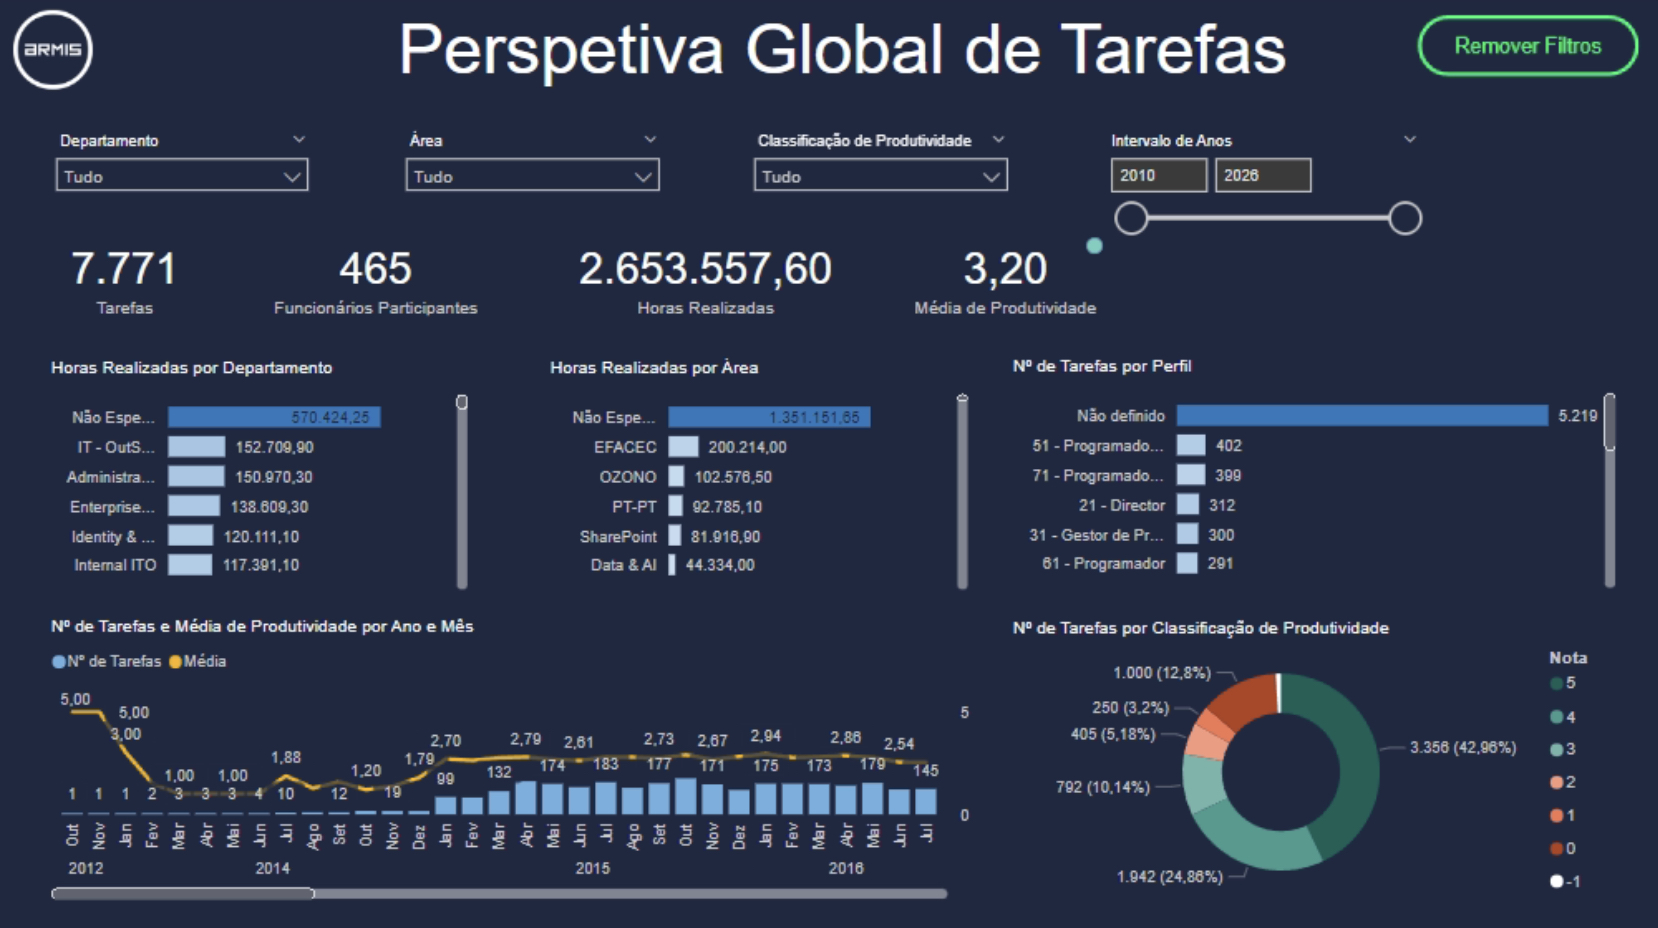

This screenshot's page, from the dashboard's own definition file:
{"tool":"powerbi","page":{"name":"Global de Tarefas","canvas":[1280,720],"ordinal":3},"visuals":[{"type":"image","box":[5.1,6.4,77.8,71.4],"z":0},{"type":"actionButton","box":[1093.9,15.3,169.6,47.2],"z":1000},{"type":"clusteredBarChart","title":"Horas Realizadas por Área","fields":{"Category":["Projeto.Area"],"Y":["Produtividade de Tarefas.Horas Realizadas (Tarefa)"]},"box":[422.6,278.6,331.4,183.1],"z":2000},{"type":"textbox","box":[288.7,6.5,726.5,71.6],"z":3000},{"type":"card","fields":{"Values":["Produtividade de Tarefas.Média das Classificações (Tarefa)"]},"box":[697.4,182.7,159.1,69.2],"z":4000},{"type":"card","fields":{"Values":["Produtividade de Tarefas.Nº de Tarefas exceto Inválida"]},"box":[37.4,182.7,125.9,69.2],"z":5000},{"type":"donutChart","title":"Nº de Tarefas por Classificação de Produtividade","fields":{"Category":["Classificação de Produtividade.Nota"],"Y":["Produtividade de Tarefas.Nº de Tarefas"]},"box":[777.7,478.8,473.3,221.4],"z":6000},{"type":"lineClusteredColumnComboChart","title":"Nº de Tarefas e Média de Produtividade por Ano e Mês","fields":{"Category":["Calendário.Ano","Calendário.Mes_Abrev"],"Y2":["Produtividade de Tarefas.Média das Classificações (Tarefa)"],"Y":["Produtividade de Tarefas.Nº de Tarefas exceto Inválida"]},"box":[37.9,478.3,715.9,221.7],"z":7000},{"type":"clusteredBarChart","title":"Horas Realizadas por Departamento","fields":{"Category":["Projeto.Departamento"],"Y":["Produtividade de Tarefas.Horas Realizadas (Tarefa)"]},"box":[37.6,278.6,329.9,183.1],"z":8000},{"type":"card","fields":{"Values":["Produtividade de Tarefas.Horas Realizadas (Tarefa)"]},"box":[422.1,182.7,249.1,69.2],"z":9000},{"type":"clusteredBarChart","title":"Nº de Tarefas por Perfil","fields":{"Category":["Perfil.Nome_Perfil"],"Y":["Produtividade de Tarefas.Nº de Tarefas"]},"box":[777.7,278.1,473.3,182.7],"z":10000},{"type":"slicer","fields":{"Values":["Projeto.Departamento"]},"box":[37.4,99.6,214.5,60.9],"z":11000},{"type":"slicer","fields":{"Values":["Projeto.Area"]},"box":[306,99.4,215.5,61.2],"z":12000},{"type":"slicer","title":"Intervalo de Anos","fields":{"Values":["Calendário.Ano"]},"box":[845.3,99.4,260.1,99.4],"z":13000},{"type":"slicer","fields":{"Values":["Classificação de Produtividade.Nota"]},"box":[573.7,99.4,215.5,61.2],"z":14000},{"type":"card","fields":{"Values":["Produtividade de Tarefas.Nº Funcionários Participantes"]},"box":[189.6,182.7,206.2,69.2],"z":15000},{"type":"shape","box":[838.9,186.1,12.7,12.7],"z":15501}]}

Visuals, with their boxes in screenshot pixels (x1, y1, x2, y2), scaled from the page's 1280x720 canvas onto the 1658x928 screenshot:
image: [left=7, top=8, right=107, bottom=100]
actionButton: [left=1417, top=20, right=1637, bottom=81]
"Horas Realizadas por Área" clusteredBarChart: [left=547, top=359, right=977, bottom=595]
textbox: [left=374, top=8, right=1315, bottom=101]
card - Produtividade de Tarefas.Média das Classificações (Tarefa): [left=903, top=235, right=1109, bottom=325]
card - Produtividade de Tarefas.Nº de Tarefas exceto Inválida: [left=48, top=235, right=212, bottom=325]
"Nº de Tarefas por Classificação de Produtividade" donutChart: [left=1007, top=617, right=1620, bottom=902]
"Nº de Tarefas e Média de Produtividade por Ano e Mês" lineClusteredColumnComboChart: [left=49, top=616, right=976, bottom=902]
"Horas Realizadas por Departamento" clusteredBarChart: [left=49, top=359, right=476, bottom=595]
card - Produtividade de Tarefas.Horas Realizadas (Tarefa): [left=547, top=235, right=869, bottom=325]
"Nº de Tarefas por Perfil" clusteredBarChart: [left=1007, top=358, right=1620, bottom=594]
slicer - Projeto.Departamento: [left=48, top=128, right=326, bottom=207]
slicer - Projeto.Area: [left=396, top=128, right=676, bottom=207]
"Intervalo de Anos" slicer: [left=1095, top=128, right=1432, bottom=256]
slicer - Classificação de Produtividade.Nota: [left=743, top=128, right=1022, bottom=207]
card - Produtividade de Tarefas.Nº Funcionários Participantes: [left=246, top=235, right=513, bottom=325]
shape: [left=1087, top=240, right=1103, bottom=256]
